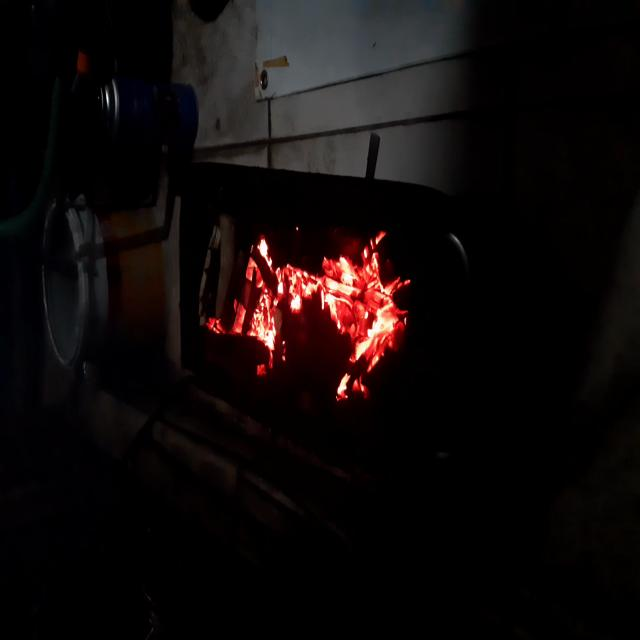Fire: (211, 222, 424, 367)
